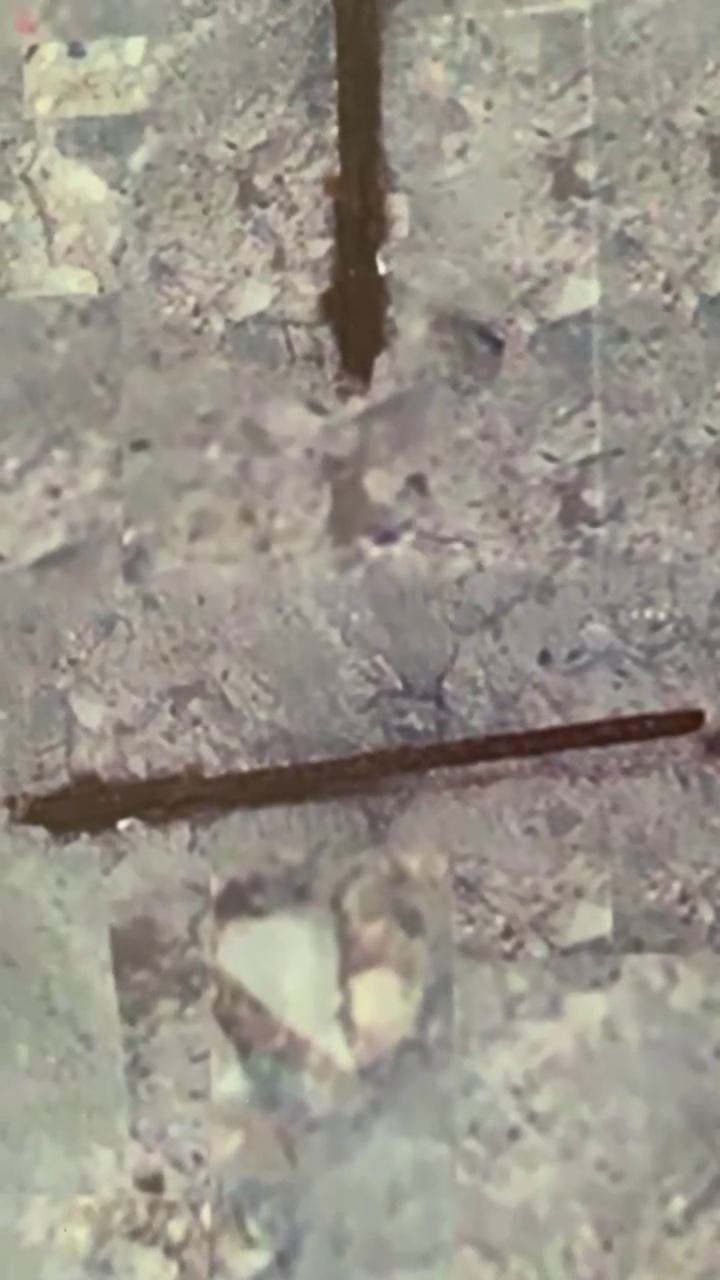Exposed reinforcement: (23, 708, 706, 838), (319, 1, 394, 391)
